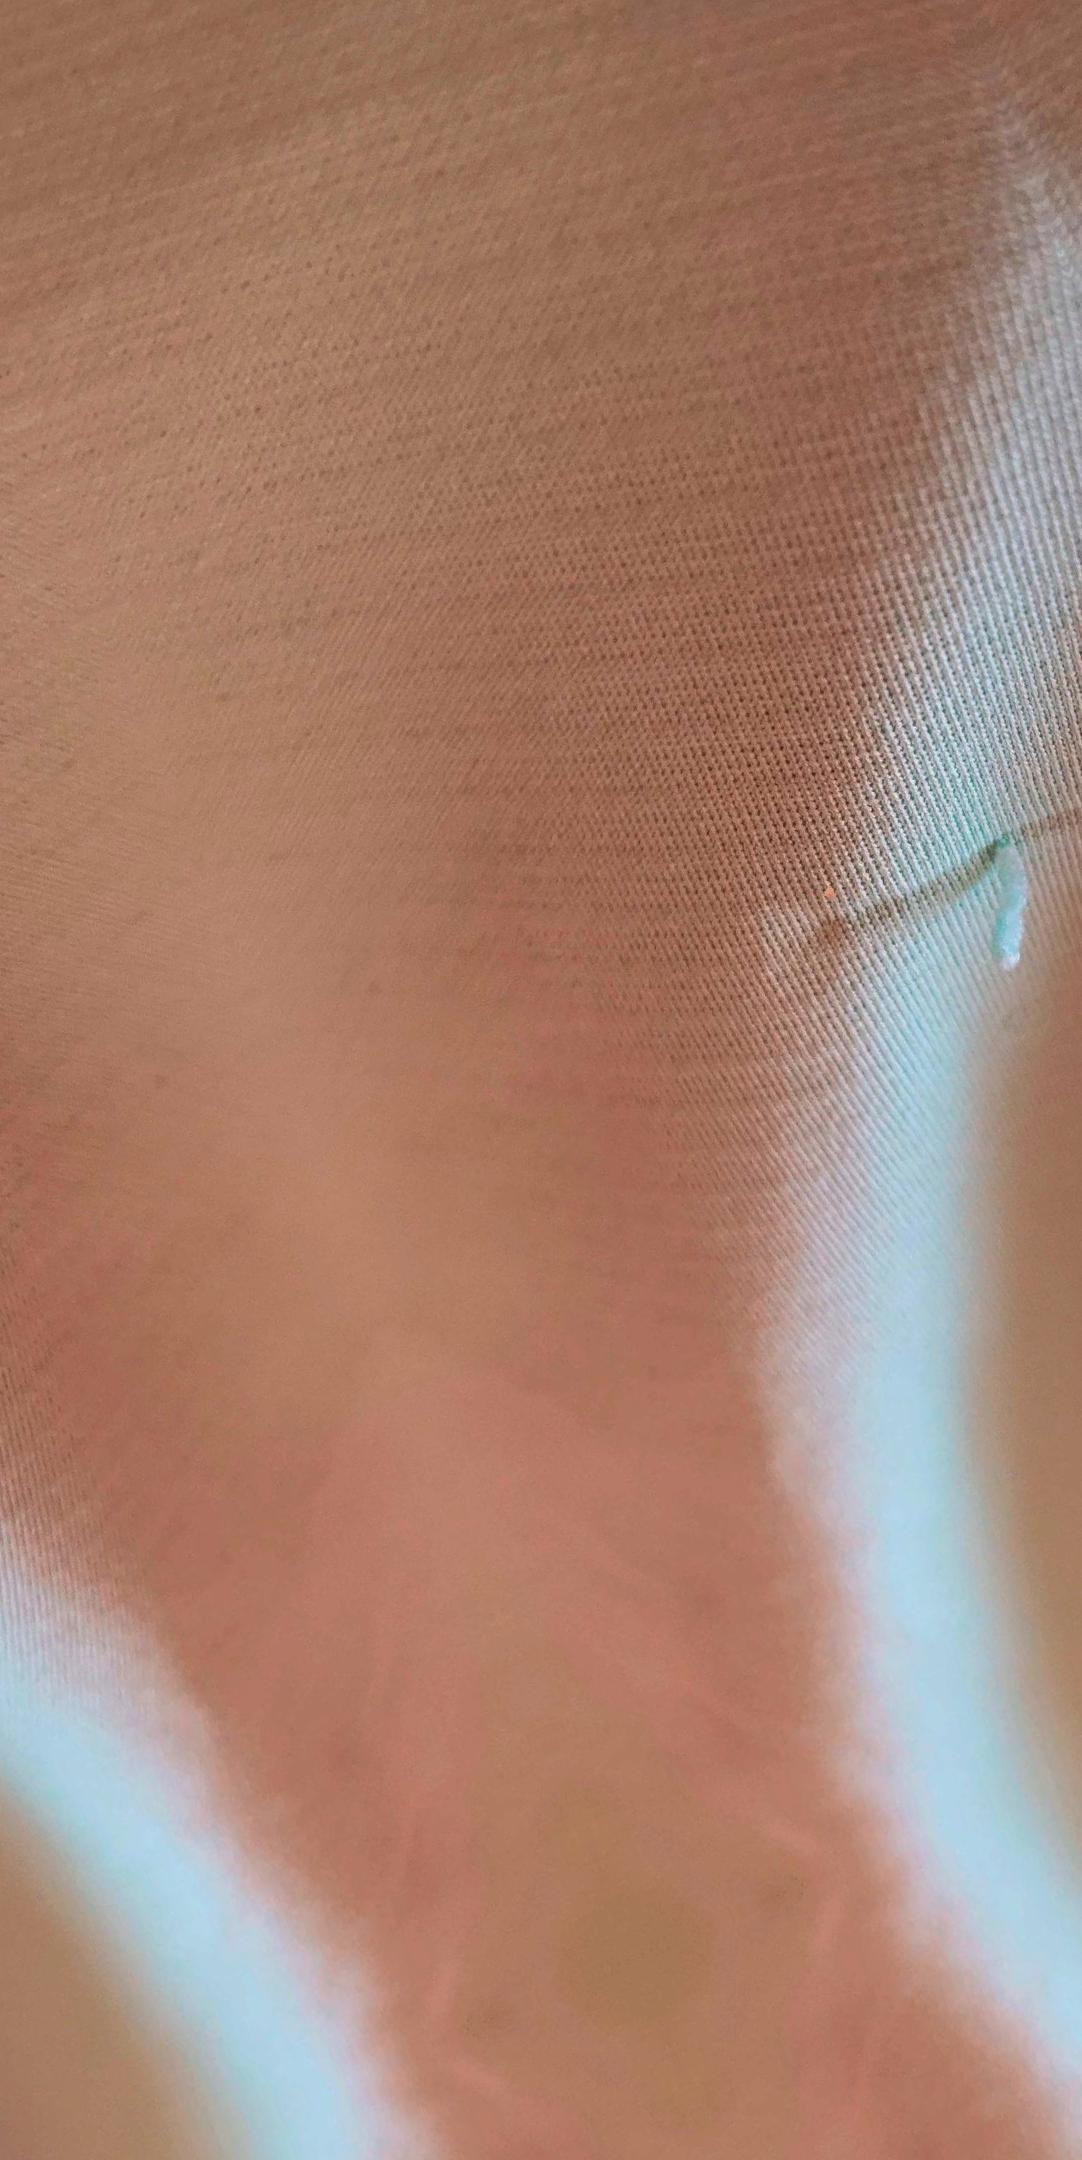snag: (943, 797, 1071, 992)
